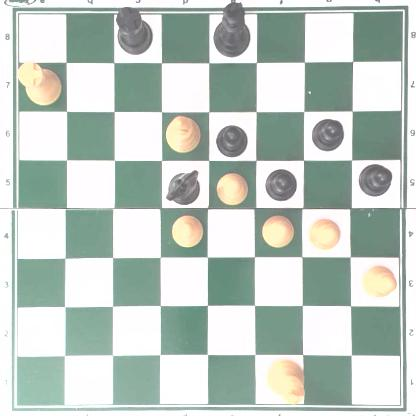black-king: (213, 1, 251, 59)
black-knight: (166, 167, 201, 205)
black-pawn: (357, 163, 392, 197), (214, 123, 248, 157), (311, 116, 344, 151), (265, 166, 297, 201)
black-rook: (113, 8, 154, 51)
white-bishop: (164, 113, 201, 154)
white-king: (266, 356, 304, 404)
white-pawn: (307, 215, 341, 251), (361, 264, 397, 297), (213, 171, 249, 204), (261, 214, 294, 248), (171, 215, 203, 247)
white-rook: (16, 63, 61, 103)
